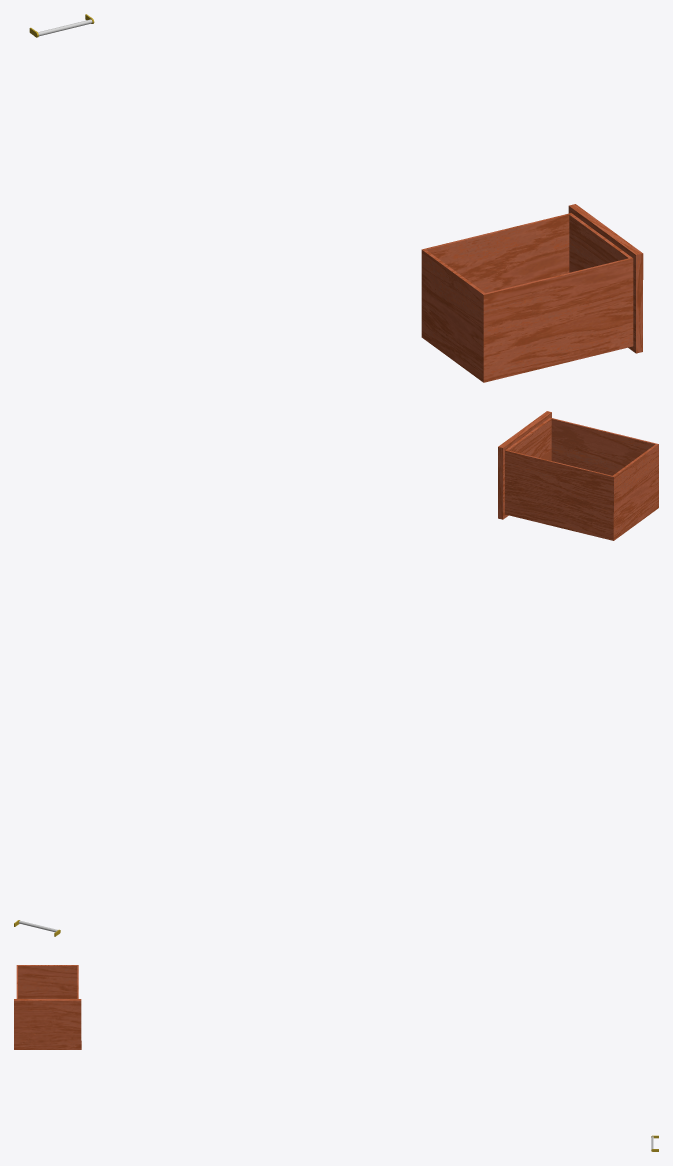
The model's file is Drawer_a2a6a3f6.obj.
3 views of the same model, one above another, from view 1: azimuth 30°, elevation 25°; view 2: azimuth 150°, elevation 25°; view 3: azimuth 270°, elevation 25° (orthographic). The views are drawn at different scales.
Visible parts, largest first — view 1: DrawerMesh_(1)_01_78b407b1; view 2: DrawerMesh_(1)_01_78b407b1; view 3: DrawerMesh_(1)_01_78b407b1.
Boxes of the visible parts, x1=… form: DrawerMesh_(1)_01_78b407b1: x1=421, y1=204, x2=643, y2=382; DrawerMesh_(1)_01_78b407b1: x1=498, y1=411, x2=658, y2=540; DrawerMesh_(1)_01_78b407b1: x1=14, y1=965, x2=81, y2=1049.
Size of the model in its own units: 0.7672 by 0.7755 by 3.49.
